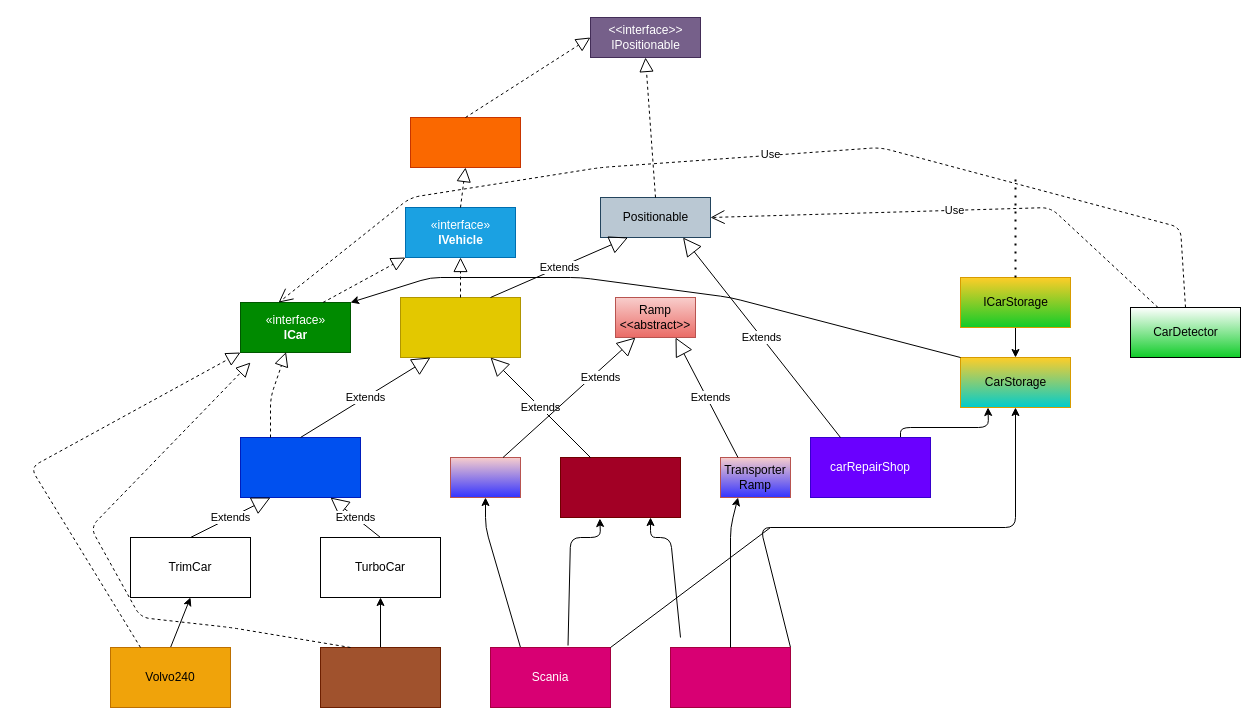
Some shapes in this 1258 by 725 pixel diagram are drawn without their labels. Each missing label, with the centre of its shape:
"Car <<abstract>" goes at point 300,467.
"Saab" goes at point 380,677.
"Transporter" goes at point 730,677.
"Truck" goes at point 620,487.
"TruckRamp" goes at point 485,477.
"Vehicle <<abstract>>" goes at point 460,327.
"«interface» Movable" goes at point 465,142.
